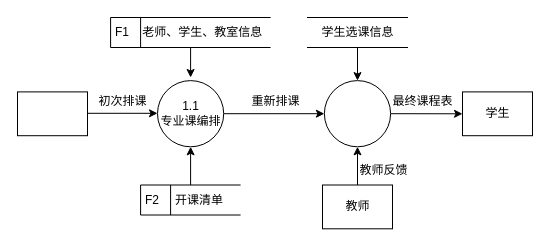
Some shapes in this 550 by 247 pixel diagram are drawn without their labels. Here are the shapes that lost their labels. From the top down, the centre of each, then its label:
At point (52, 113): "管理员".
At point (357, 113): "1.2 课表编排".
